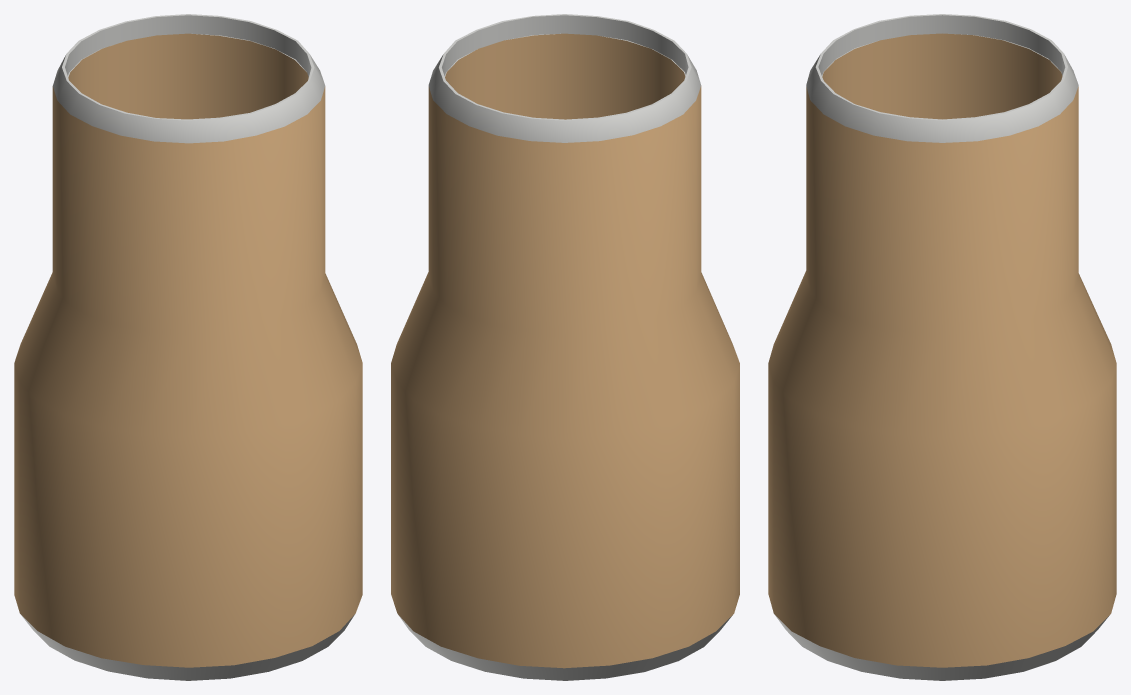
Rendered from slab_pipes_supply__water-city_filter_and_plumbing-copper_and_softener-no.glb.
The picture shows the model from 3 angles, left to right: view 1: azimuth 30°, elevation 25°; view 2: azimuth 150°, elevation 25°; view 3: azimuth 270°, elevation 25°; orthographic projection.
Visible parts, largest first — view 1: fit_bushing_pipe_supply_house_entry__copper.901; view 2: fit_bushing_pipe_supply_house_entry__copper.901; view 3: fit_bushing_pipe_supply_house_entry__copper.901.
Boxes of the visible parts, x1,y1,x2,y2 form: fit_bushing_pipe_supply_house_entry__copper.901: [14, 14, 362, 680]; fit_bushing_pipe_supply_house_entry__copper.901: [391, 14, 739, 680]; fit_bushing_pipe_supply_house_entry__copper.901: [768, 14, 1116, 680].
Size of the model in its own units: 0.0315 by 0.0544 by 0.0315.
